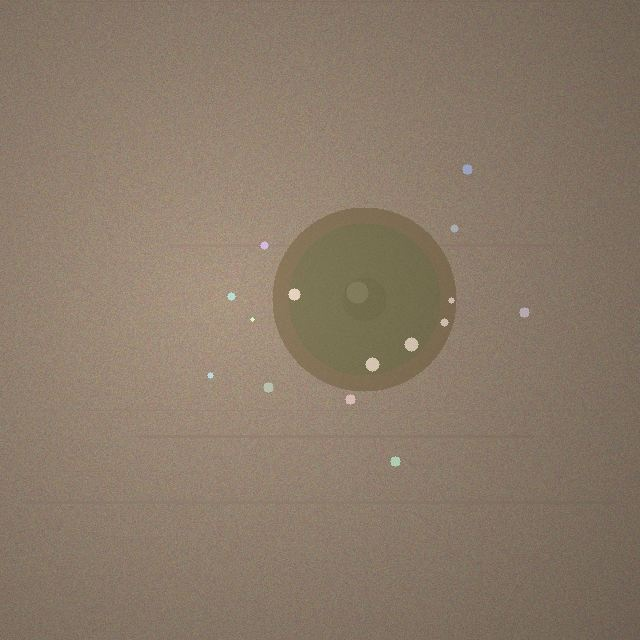overburn: (272, 207, 456, 391)
